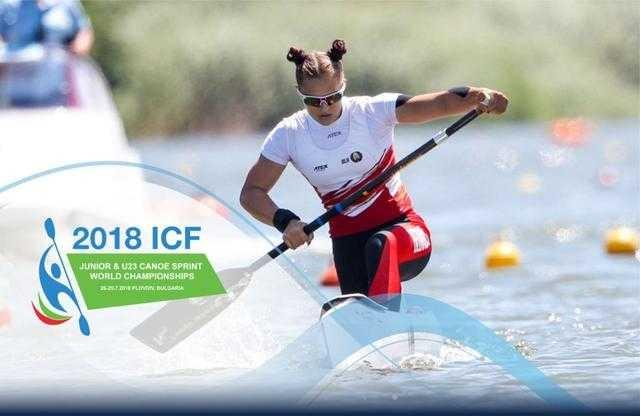kayak: (2, 289, 626, 415)
